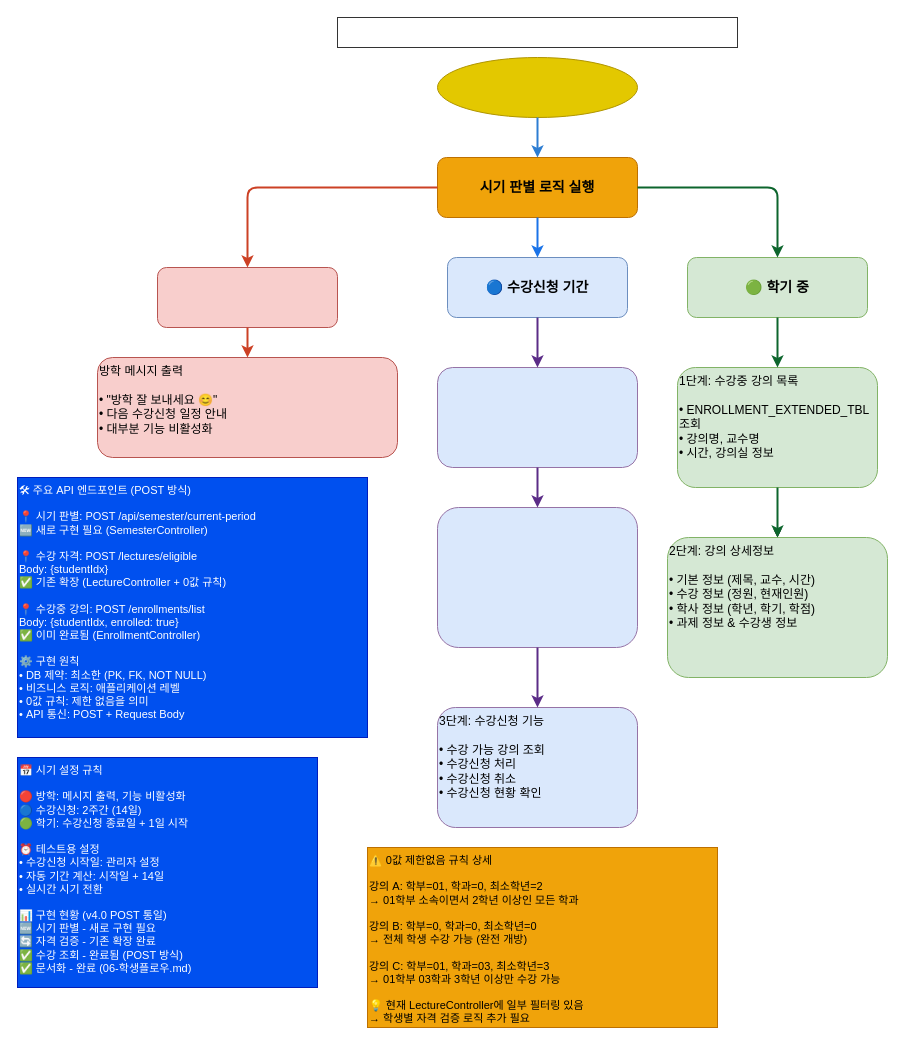
Image size: 905x1045. Some labels were removed from this diagram. The box of each missing label's shape, as (x1, y1, x2, y2) in pixels:
1단계: 자격 검증 • 로그인 확인 • 학생 권한 확인 • USER_STUDENT = 0: (436, 366, 638, 468)
2단계: 강의 필터링 • 학부 코드 일치 ✅ • 학과 코드 일치 ✅ • 최소 학년 이상 ✅ • 정원 미달 ❌ ⚠️ 0값 = 제한없음: (436, 506, 638, 648)
서버 현재 시간 확인: (436, 56, 638, 118)
학기 시스템 및 수강신청 기간 관리 플로우: (336, 16, 738, 48)
🔴 방학 기간: (156, 266, 338, 328)
